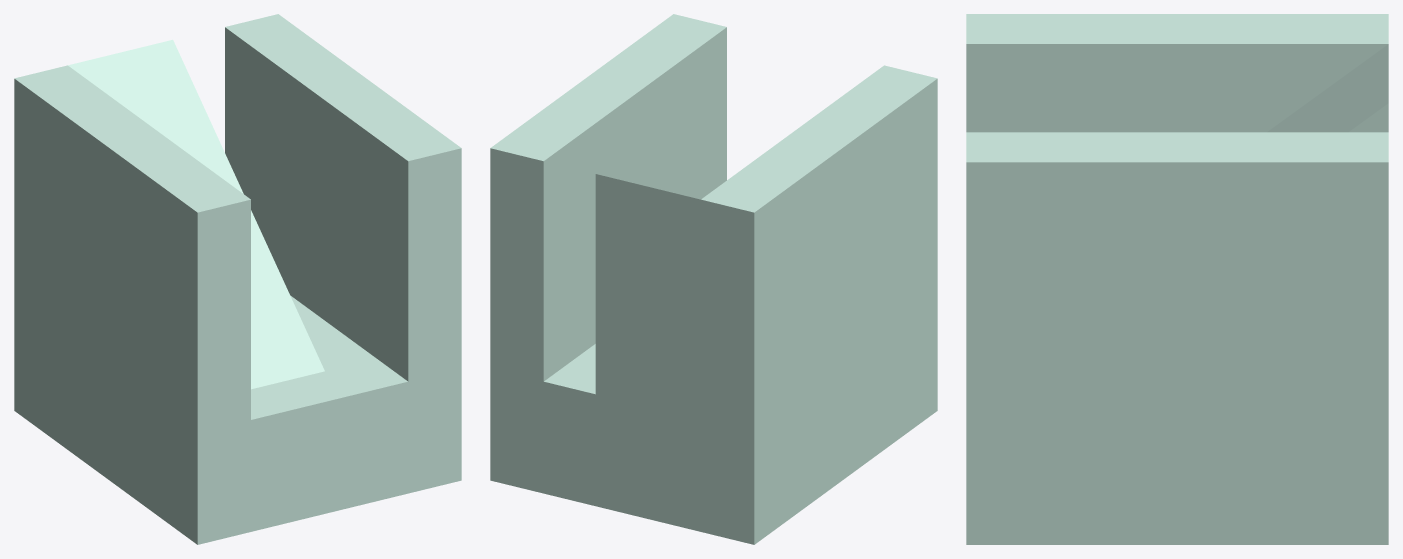
3 views of the same model, side by side, from view 1: azimuth 30°, elevation 25°; view 2: azimuth 150°, elevation 25°; view 3: azimuth 270°, elevation 25° (orthographic). The views are drawn at different scales.
Parts seen in each view (by area): view 1: Renderer Node; view 2: Renderer Node; view 3: Renderer Node.
Part boxes in pixels (x1,y1,x2,y2): Renderer Node: [14, 14, 461, 544]; Renderer Node: [490, 14, 937, 544]; Renderer Node: [966, 14, 1388, 544].
Bounding box in the file's own units: 0.6237 × 0.75 × 0.75.
